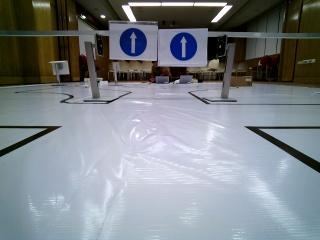straight: (159, 27, 207, 65), (109, 22, 158, 59)
